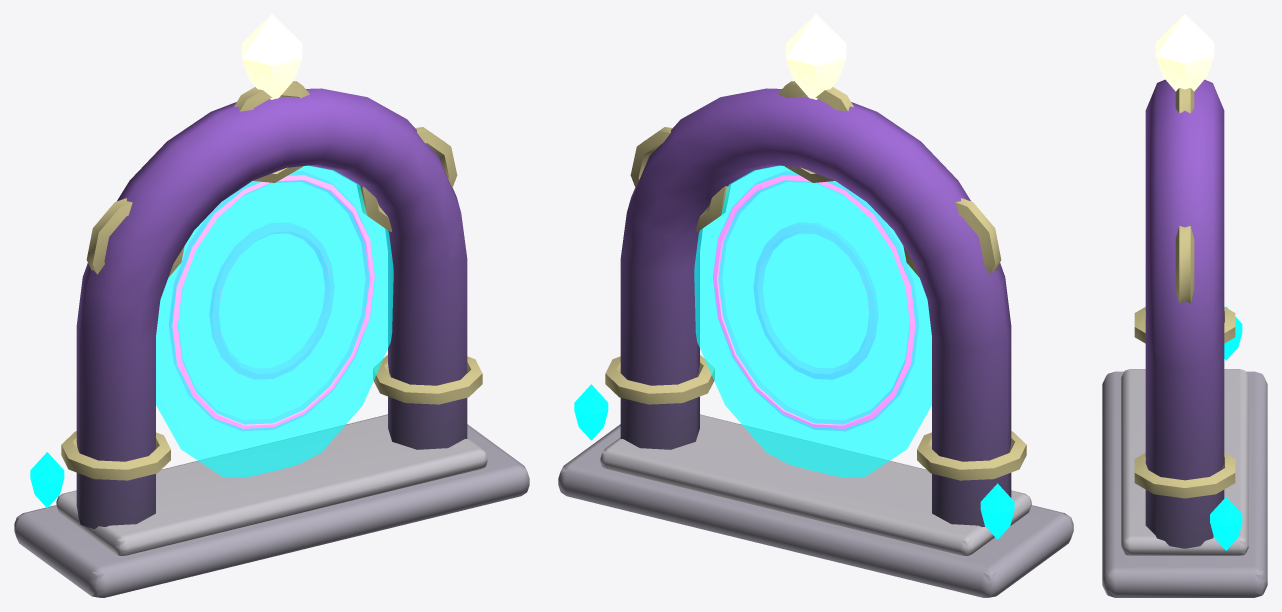
The model's file is portal.glb.
The picture shows the model from 3 angles, left to right: view 1: azimuth 30°, elevation 25°; view 2: azimuth 150°, elevation 25°; view 3: azimuth 270°, elevation 25°; orthographic projection. The views are drawn at different scales.
Parts seen in each view (by area): view 1: Body, Glow_00E5FF_T35, Glow_7B2FF7, Glow_FFE066, Glow_00E5FF; view 2: Body, Glow_00E5FF_T35, Glow_7B2FF7, Glow_FFE066, Glow_00E5FF; view 3: Body, Glow_FFE066, Glow_00E5FF.
Part boxes in pixels (bbox=[...]): Body: bbox=[14, 81, 529, 597]; Glow_00E5FF_T35: bbox=[156, 165, 393, 477]; Glow_7B2FF7: bbox=[169, 171, 374, 430]; Glow_FFE066: bbox=[241, 14, 302, 99]; Glow_00E5FF: bbox=[30, 452, 64, 508]; Body: bbox=[558, 81, 1073, 597]; Glow_00E5FF_T35: bbox=[694, 165, 931, 477]; Glow_7B2FF7: bbox=[713, 171, 918, 430]; Glow_FFE066: bbox=[785, 14, 846, 99]; Glow_00E5FF: bbox=[574, 384, 1014, 539]; Body: bbox=[1102, 79, 1267, 597]; Glow_FFE066: bbox=[1155, 14, 1214, 91]; Glow_00E5FF: bbox=[1210, 306, 1242, 550].
Size of the model in its own units: 13 by 14.3 by 4.4.
